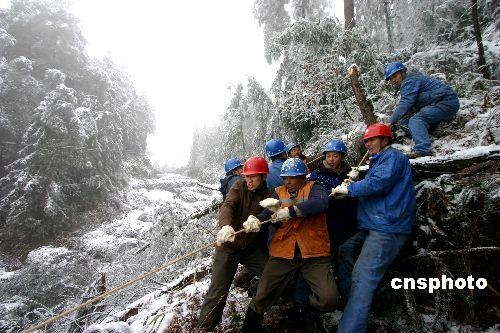blue: (278, 158, 308, 190), (322, 138, 348, 167), (383, 61, 408, 87), (263, 138, 285, 161), (223, 156, 244, 177), (285, 140, 302, 159)
red: (360, 124, 393, 155), (242, 156, 269, 192)
